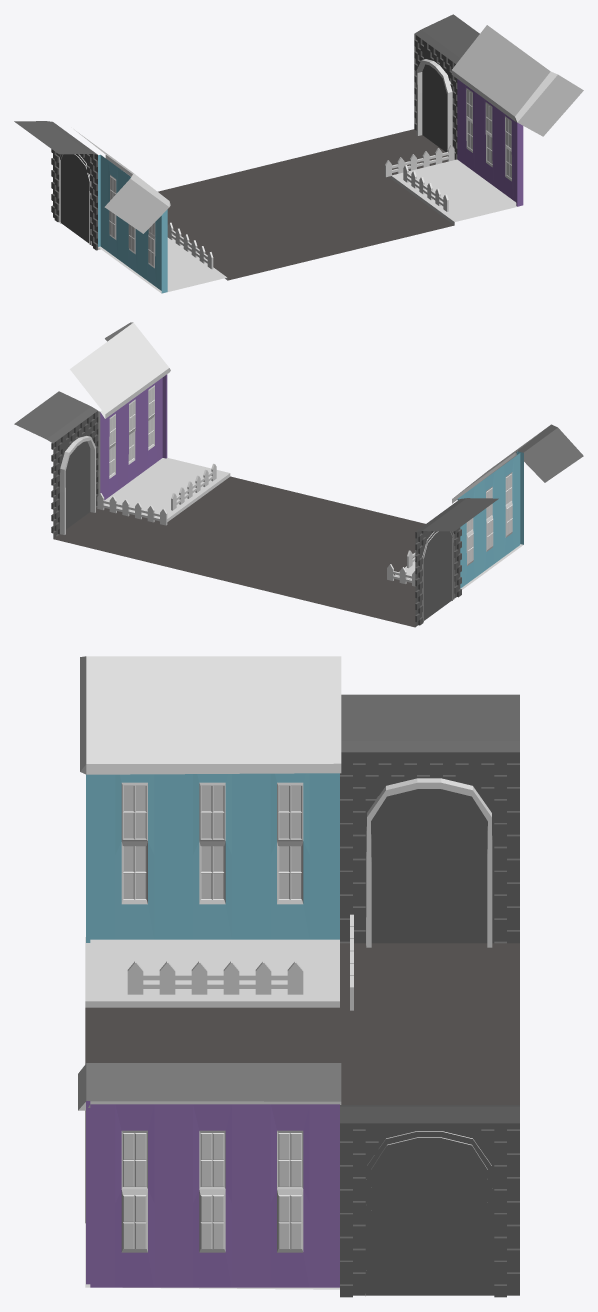
Rendered from RUATileTrem.fbx.
3 renders of one model, top to bottom at view 1: azimuth 30°, elevation 25°; view 2: azimuth 150°, elevation 25°; view 3: azimuth 270°, elevation 25°, orthographic. The views are drawn at different scales.
Parts seen in each view (by area): view 1: RUATileTrem; view 2: RUATileTrem; view 3: RUATileTrem.
Part boxes in pixels (x1=…): RUATileTrem: x1=14, y1=14, x2=583, y2=293; RUATileTrem: x1=14, y1=322, x2=583, y2=627; RUATileTrem: x1=78, y1=656, x2=519, y2=1297.
Size of the model in its own units: 1588 by 414 by 634.
